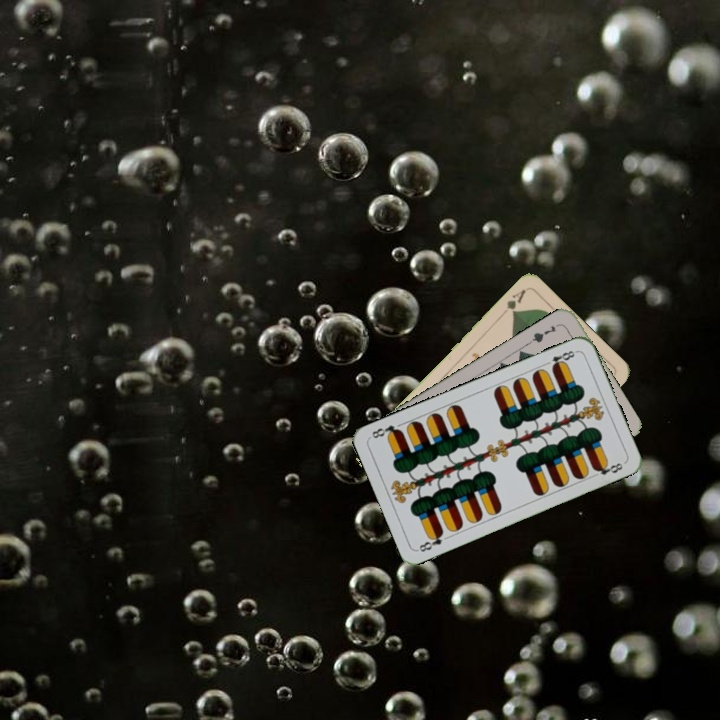E8: (541, 346, 580, 371), (414, 527, 446, 555)
G7: (526, 320, 563, 346)
GA: (498, 285, 528, 318)
